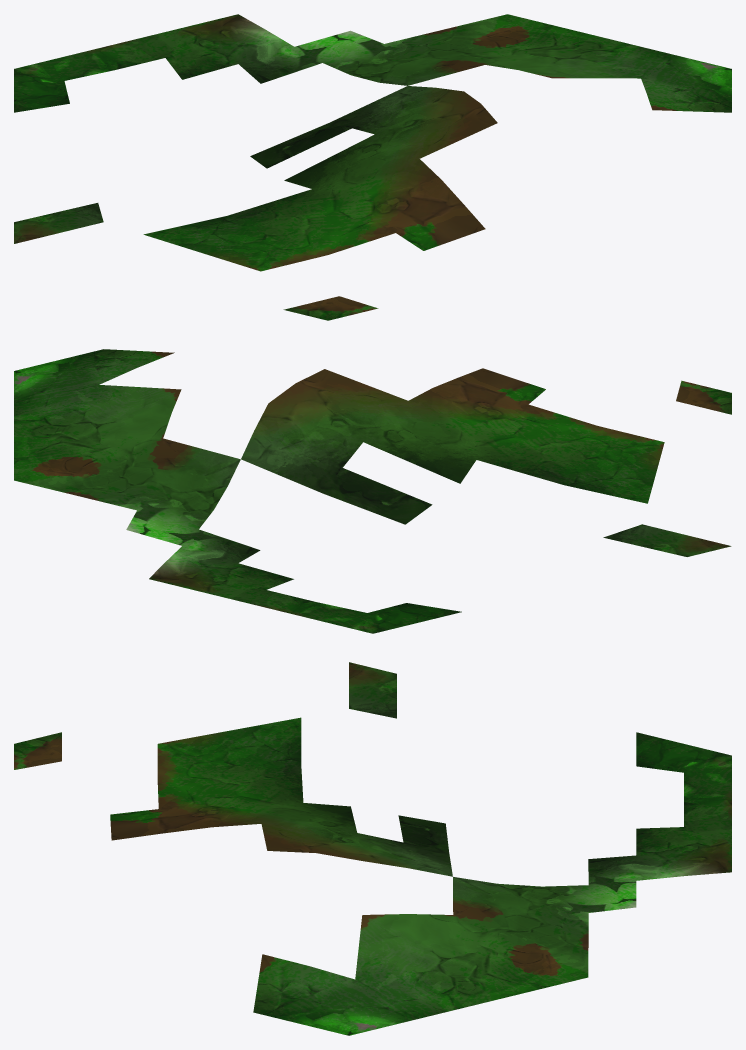
Rendered from tile3_grass.fbx.
3 renders of one model, top to bottom at view 1: azimuth 30°, elevation 25°; view 2: azimuth 150°, elevation 25°; view 3: azimuth 270°, elevation 25°, orthographic. The views are drawn at different scales.
Visible parts, largest first — view 1: Tile3_Grass; view 2: Tile3_Grass; view 3: Tile3_Grass.
Boxes of the visible parts, left/top/right/bottom form: Tile3_Grass: left=14, top=14, right=731, bottom=320; Tile3_Grass: left=14, top=349, right=731, bottom=633; Tile3_Grass: left=14, top=662, right=731, bottom=1035.
Bounding box in the file's own units: 1.95 × 0.1439 × 1.59.
Materials: 1 (1 with a texture image).
